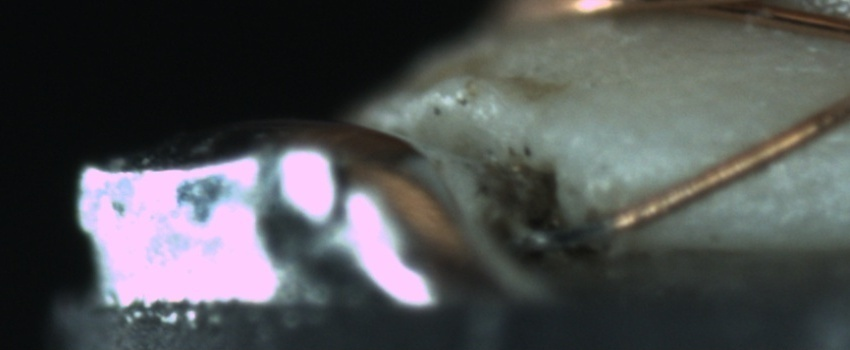DL: (678, 114, 850, 173)
TS: (523, 221, 609, 253)
